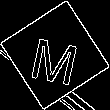M_N: (27, 26, 83, 84)
